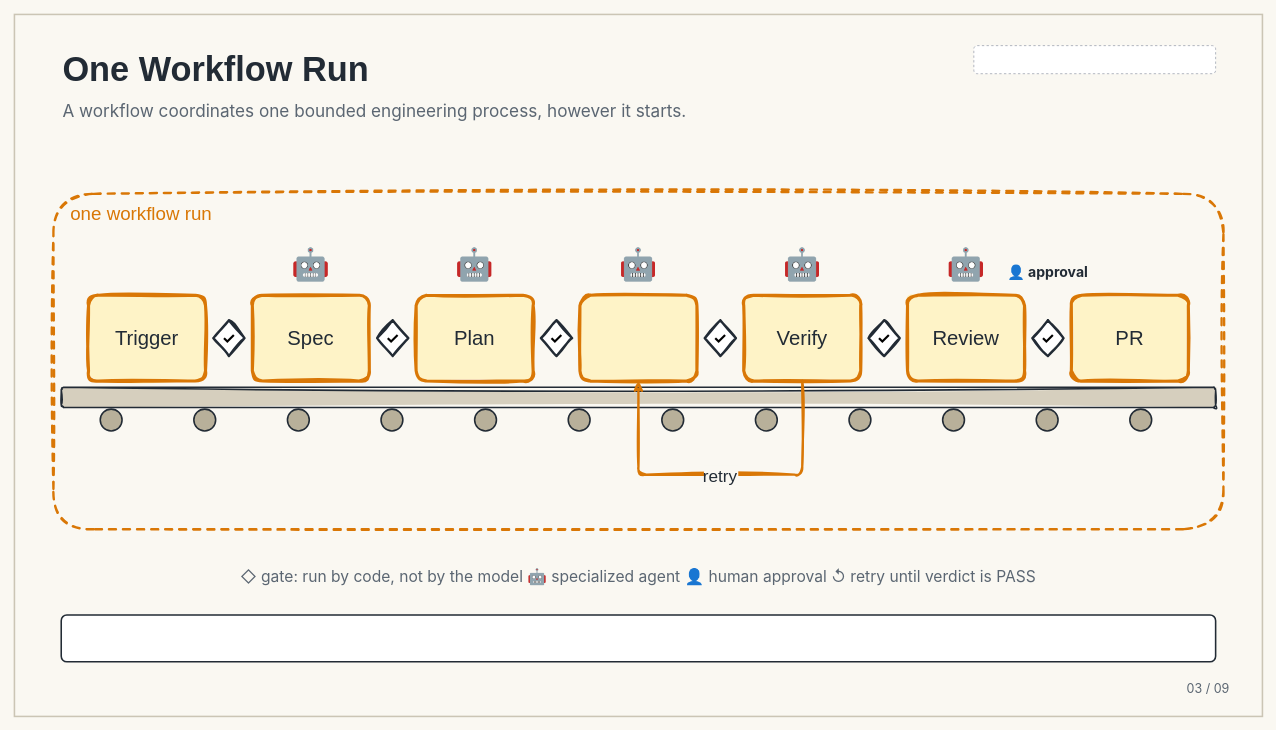
The diagram is 1276 pixels wide and 730 high, and some of its shapes have lost their labels. Each missing label, with the centre of its shape:
"Implement" goes at point (638, 337).
"PROTOTYPE C · process / conveyor" goes at point (1094, 59).
"Trigger → Spec → Plan → Implement → Verify → Review → PR" goes at point (638, 638).
